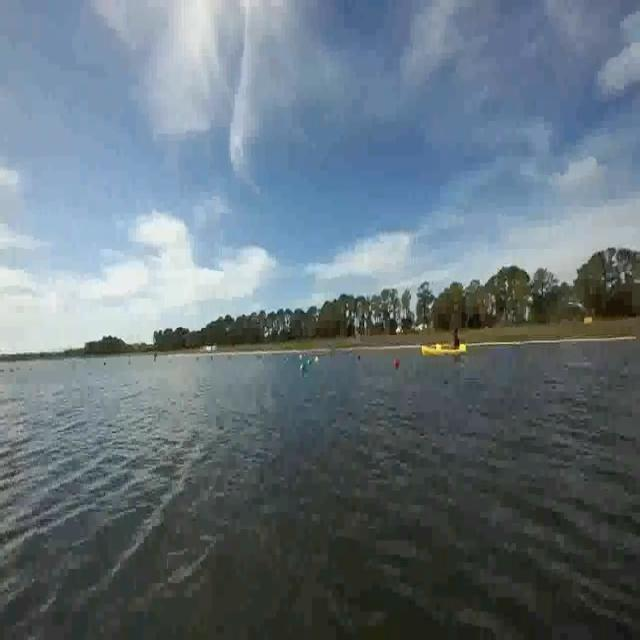red-buoy: (393, 358, 399, 368)
